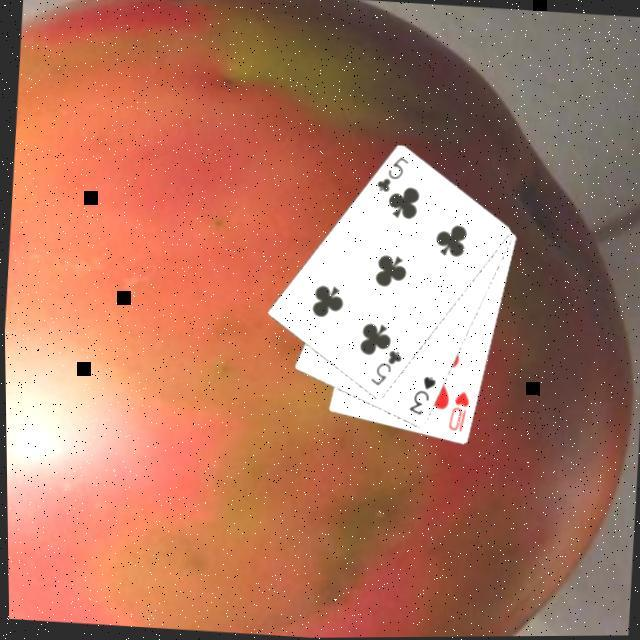10H: (440, 389, 470, 438)
3S: (401, 374, 436, 422)
5C: (368, 153, 410, 200), (362, 348, 402, 393)
